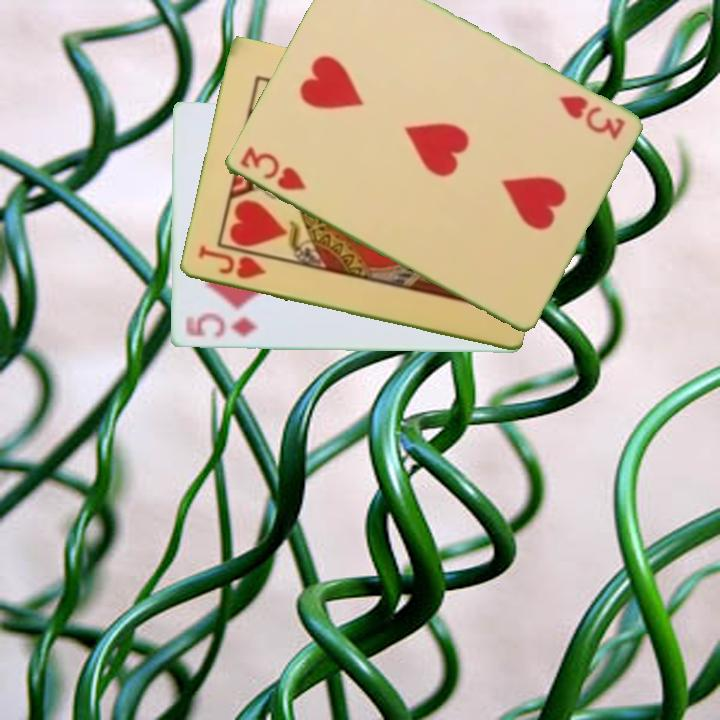3h: (236, 143, 309, 194), (555, 92, 628, 143)
5d: (181, 311, 261, 341)
Jh: (194, 242, 268, 283)
